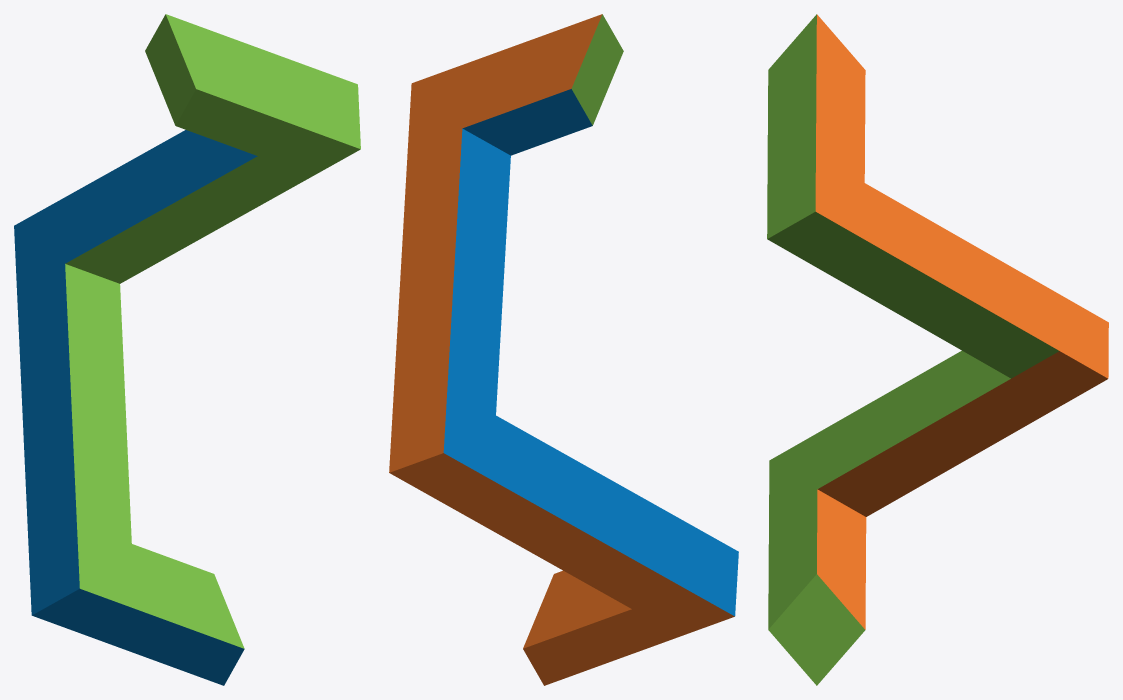
The model's file is penrose_triangle.glb.
3 views of the same model, side by side, from view 1: azimuth 30°, elevation 25°; view 2: azimuth 150°, elevation 25°; view 3: azimuth 270°, elevation 25° (orthographic). The views are drawn at different scales.
Visible parts, largest first — view 1: Penrose_object; view 2: Penrose_object; view 3: Penrose_object.
Part boxes in pixels (x1,y1,x2,y2): Penrose_object: (14,14,360,685); Penrose_object: (389,14,738,685); Penrose_object: (767,14,1108,685).
Bounding box in the file's own units: 0.1555 × 0.3138 × 0.1506.
